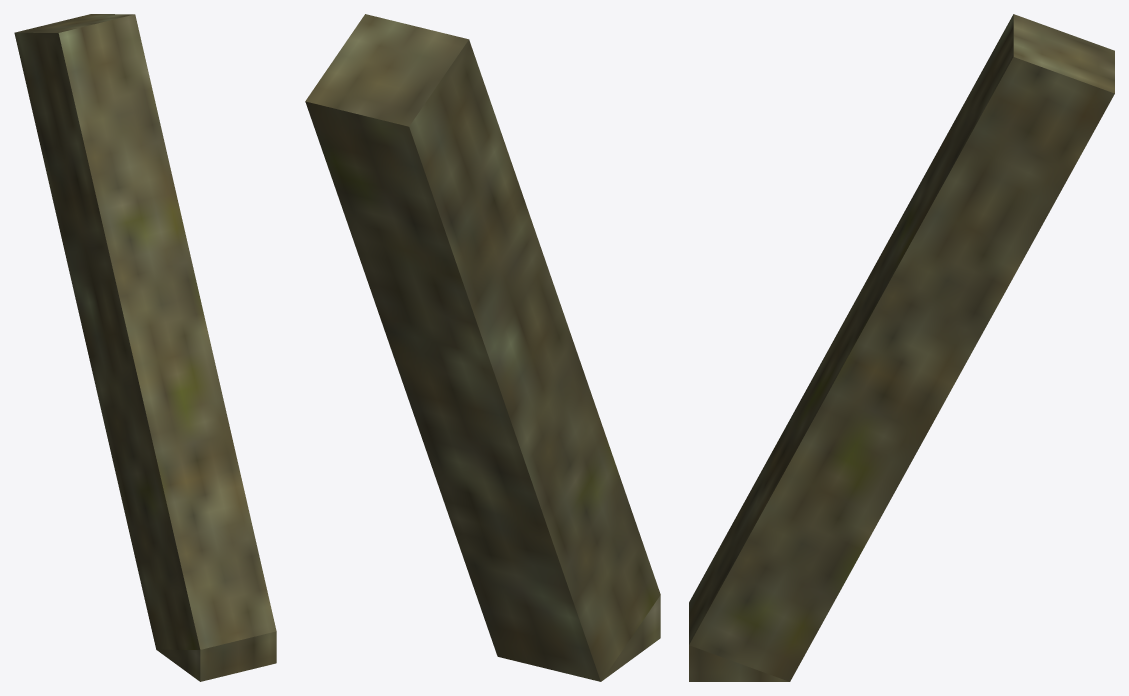
File: poplar_thin_branch_22.5_straight.obj
3 renders of one model, left to right at view 1: azimuth 30°, elevation 25°; view 2: azimuth 150°, elevation 25°; view 3: azimuth 270°, elevation 25°, orthographic. The views are drawn at different scales.
Parts seen in each view (by area): view 1: cube_selection; view 2: cube_selection; view 3: cube_selection.
Part boxes in pixels (x1=…): cube_selection: x1=14, y1=14, x2=276, y2=681; cube_selection: x1=305, y1=14, x2=660, y2=681; cube_selection: x1=689, y1=14, x2=1114, y2=681.
Size of the model in its own units: 0.3125 by 2.12 by 1.31.
